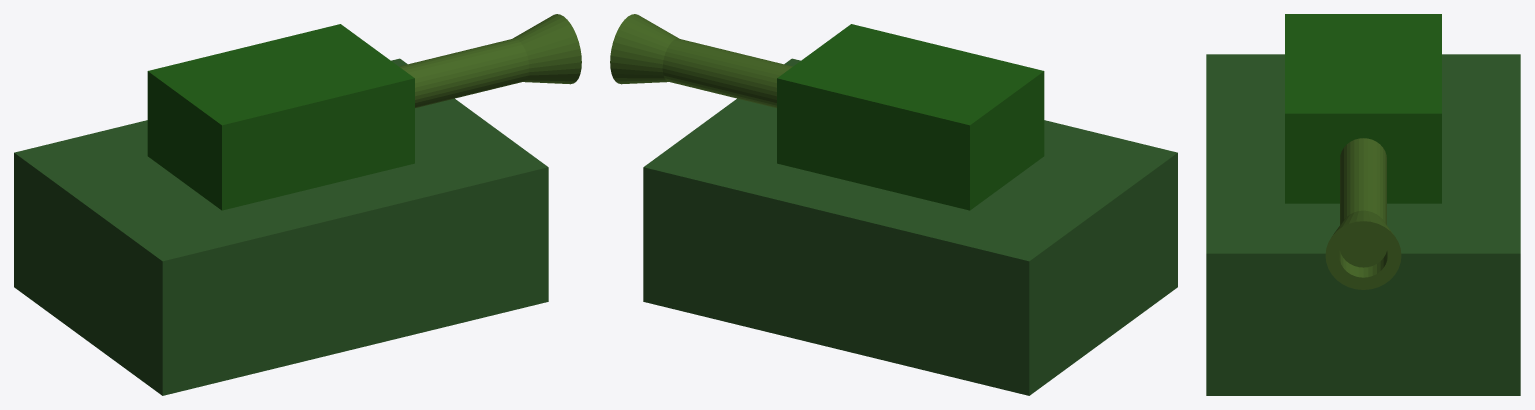
File: Tank.fbx
3 views of the same model, side by side, from view 1: azimuth 30°, elevation 25°; view 2: azimuth 150°, elevation 25°; view 3: azimuth 270°, elevation 25° (orthographic). The views are drawn at different scales.
Parts seen in each view (by area): view 1: Body, Turret, Cannon; view 2: Body, Turret, Cannon; view 3: Body, Turret, Cannon.
Boxes of the visible parts, x1=… form: Body: x1=14, y1=58, x2=548, y2=395; Turret: x1=147, y1=24, x2=414, y2=210; Cannon: x1=399, y1=14, x2=581, y2=107; Body: x1=643, y1=58, x2=1177, y2=395; Turret: x1=777, y1=24, x2=1044, y2=210; Cannon: x1=610, y1=14, x2=792, y2=107; Body: x1=1206, y1=54, x2=1520, y2=395; Turret: x1=1285, y1=14, x2=1441, y2=203; Cannon: x1=1325, y1=138, x2=1401, y2=289.
Size of the model in its own units: 739 by 327 by 400.
